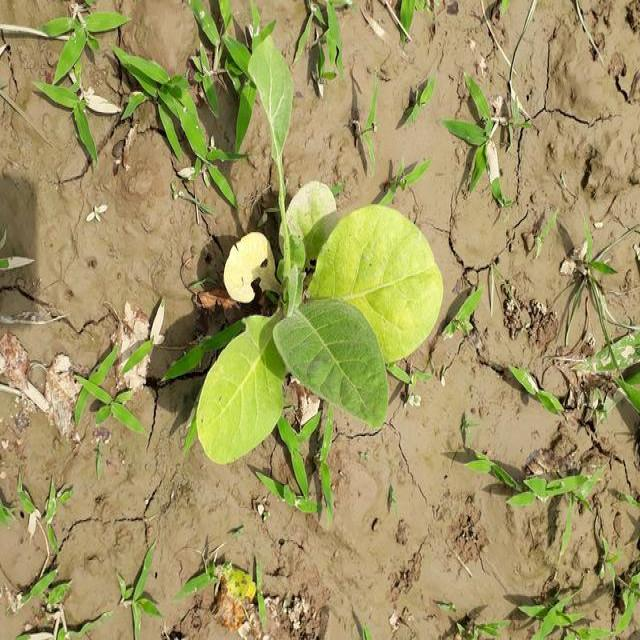crop: (192, 178, 449, 472)
